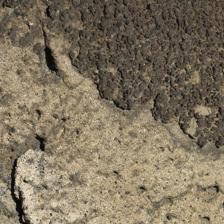Crack: (4, 71, 43, 151)
